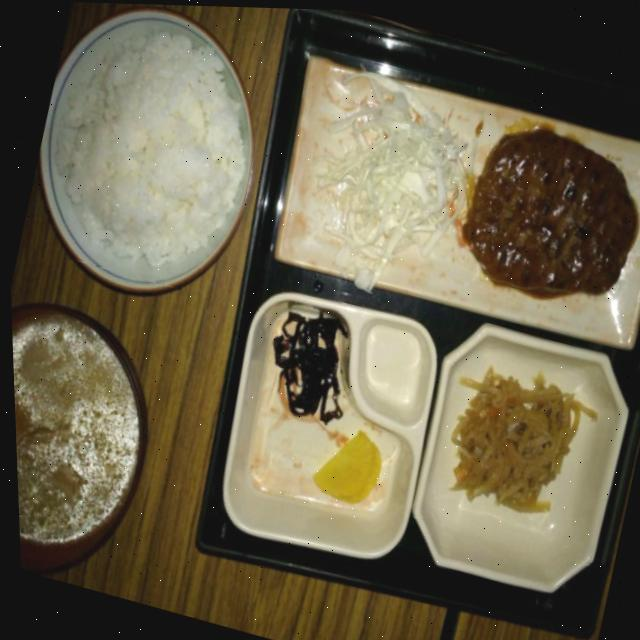汤锅炖物: (8, 292, 177, 583)
米饭主食: (6, 0, 294, 314)
蔬菜料理: (391, 299, 640, 591)
